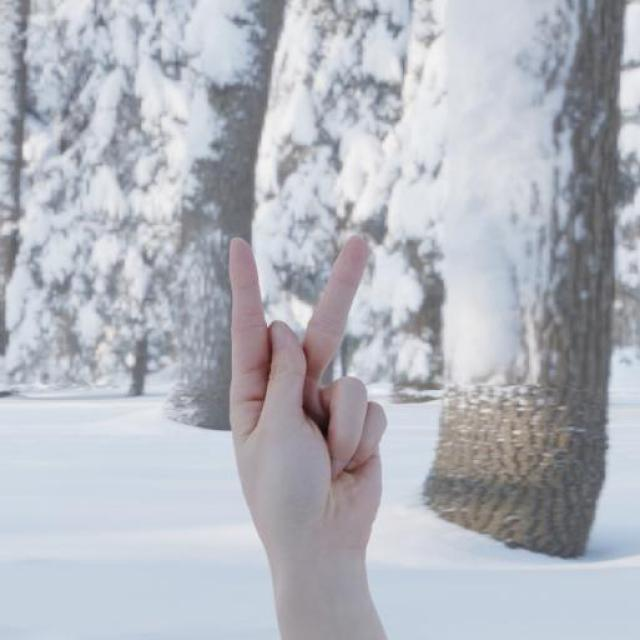K: (177, 201, 447, 625)
